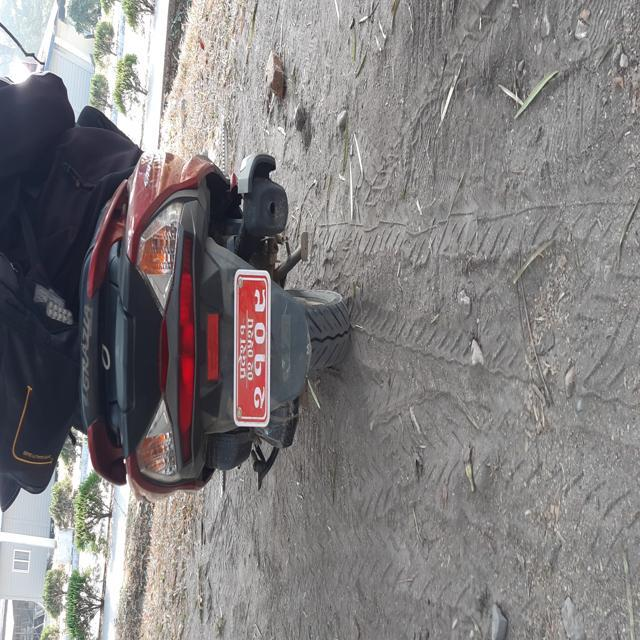license_plate: (215, 249, 302, 474)
